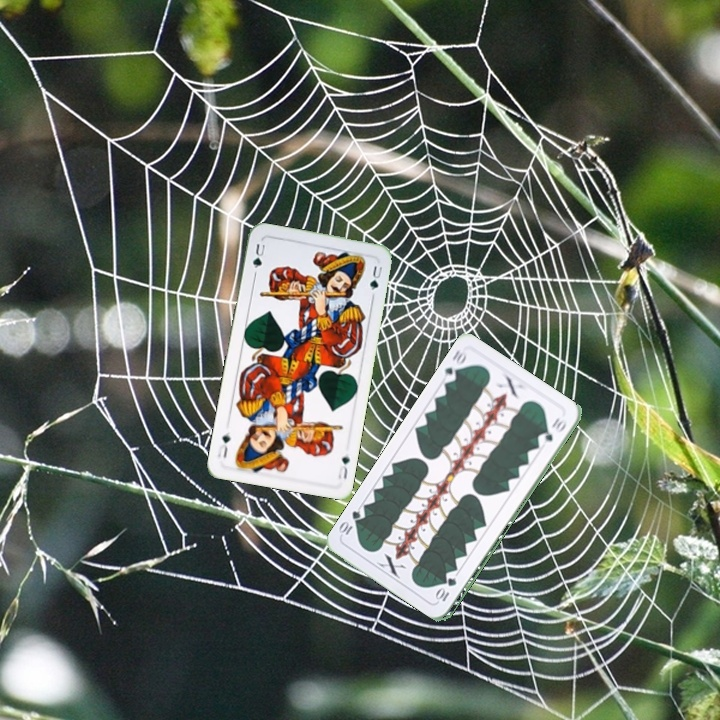G10: (439, 346, 469, 385), (434, 573, 459, 604)
GU: (334, 449, 352, 483), (249, 239, 268, 271)
